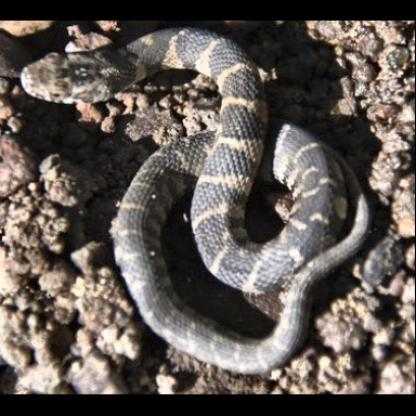Snake: (13, 37, 409, 382)
